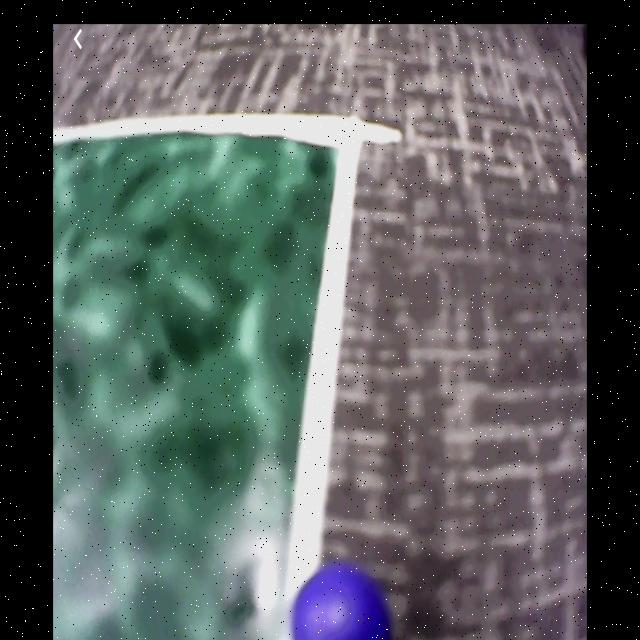ball: (293, 568, 394, 640)
